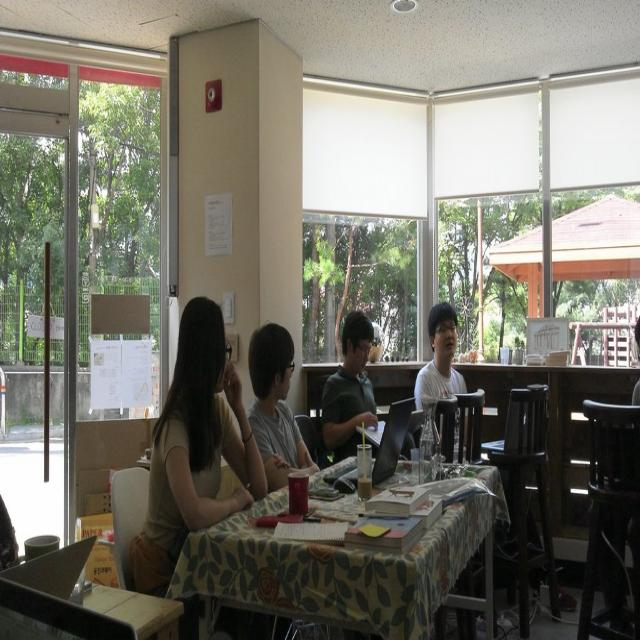chair: (480, 387, 562, 637), (577, 396, 640, 640), (110, 465, 155, 594), (294, 414, 320, 467)
desk: (164, 455, 510, 639)
laptop: (368, 398, 417, 485)
person: (129, 295, 269, 599), (246, 322, 320, 490), (320, 312, 380, 462), (413, 302, 468, 415)
